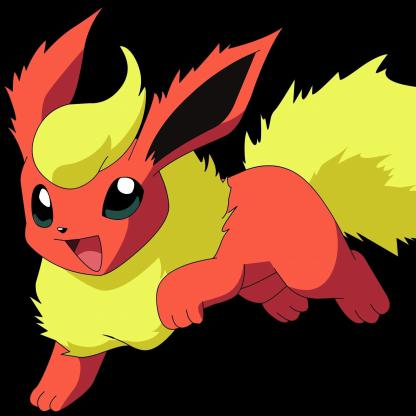Flareon: (2, 5, 416, 416)
